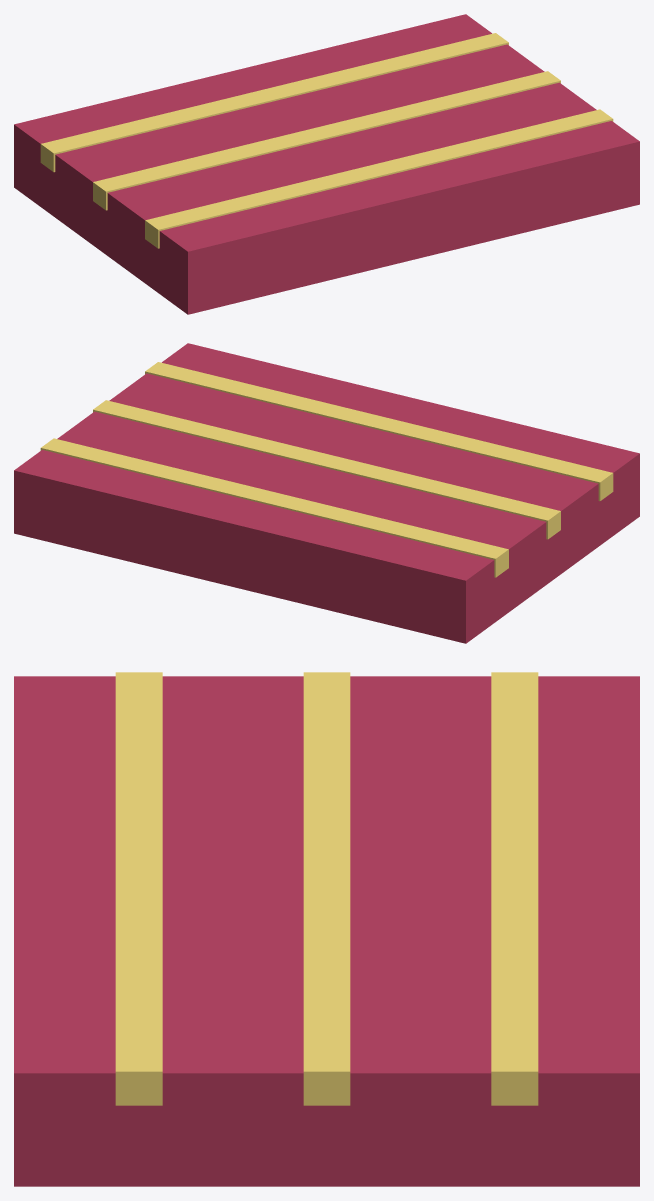
File: songket.glb
3 views of the same model, one above another, from view 1: azimuth 30°, elevation 25°; view 2: azimuth 150°, elevation 25°; view 3: azimuth 270°, elevation 25° (orthographic). The views are drawn at different scales.
Parts seen in each view (by area): view 1: kain, benang_emas0, benang_emas2, benang_emas1; view 2: kain, benang_emas2, benang_emas0, benang_emas1; view 3: kain, benang_emas0, benang_emas1, benang_emas2.
Boxes of the visible parts, x1,y1,x2,y2 form: kain: (14,14,639,314); benang_emas0: (40,33,508,172); benang_emas2: (145,109,613,248); benang_emas1: (93,71,560,210); kain: (14,343,639,643); benang_emas2: (145,362,613,501); benang_emas0: (40,438,508,577); benang_emas1: (93,400,560,539); kain: (14,676,639,1186); benang_emas0: (491,672,538,1105); benang_emas1: (303,672,350,1105); benang_emas2: (115,672,162,1105).
Size of the model in its own units: 0.302 by 0.041 by 0.2.
